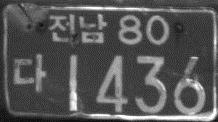0: (145, 13, 169, 46)
1: (58, 54, 90, 112)
3: (134, 54, 167, 114)
4: (95, 54, 127, 112)
6: (173, 55, 205, 115)
8: (117, 14, 143, 45)
다: (13, 53, 46, 93)
전남_O: (48, 12, 108, 44)
